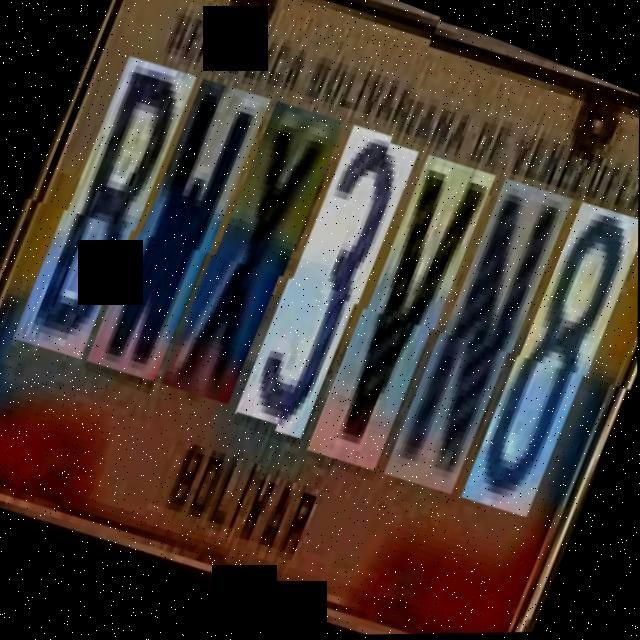3: (232, 131, 418, 451)
8: (459, 207, 639, 533)
B: (11, 59, 194, 372)
N: (383, 181, 571, 508)
V: (306, 156, 495, 483)
W: (84, 82, 268, 396)
X: (158, 107, 341, 421)
